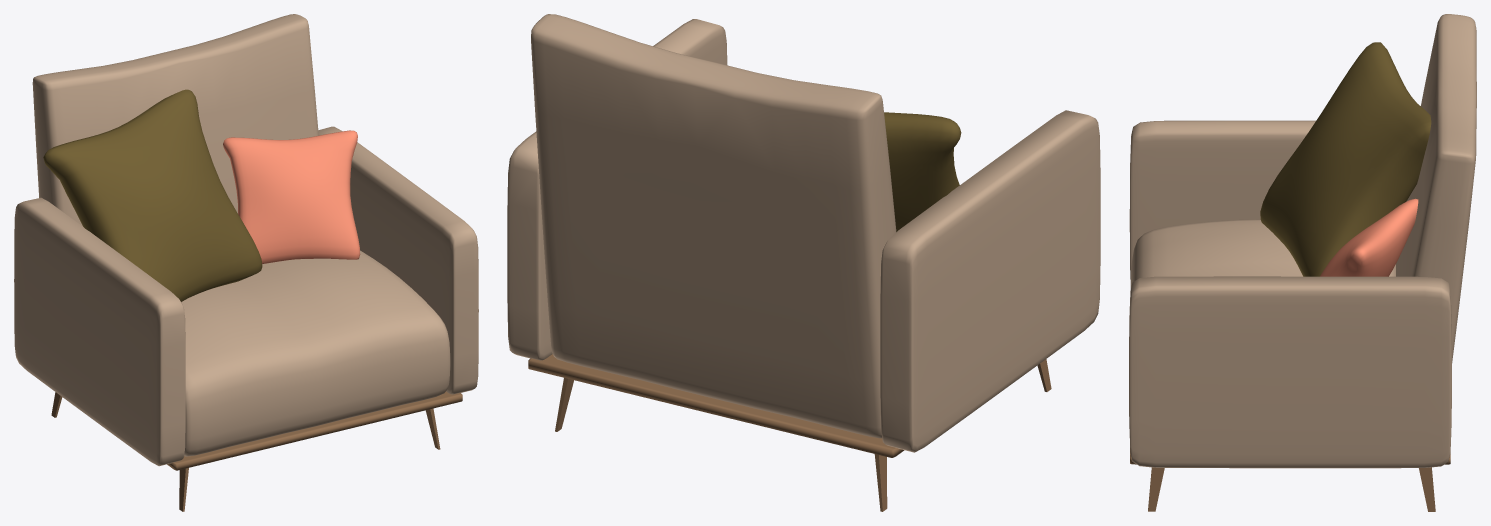
File: ArmChairWithCushions.glb
3 renders of one model, left to right at view 1: azimuth 30°, elevation 25°; view 2: azimuth 150°, elevation 25°; view 3: azimuth 270°, elevation 25°, orthographic. The views are drawn at different scales.
Parts seen in each view (by area): view 1: Arm Chair; view 2: Arm Chair; view 3: Arm Chair.
Boxes of the visible parts, x1,y1,x2,y2 form: Arm Chair: (14,14,478,511); Arm Chair: (507,14,1100,511); Arm Chair: (1129,14,1476,511).
Size of the model in its own units: 1.14 by 1.12 by 0.9773.
Materials: 1 (1 with a texture image).
